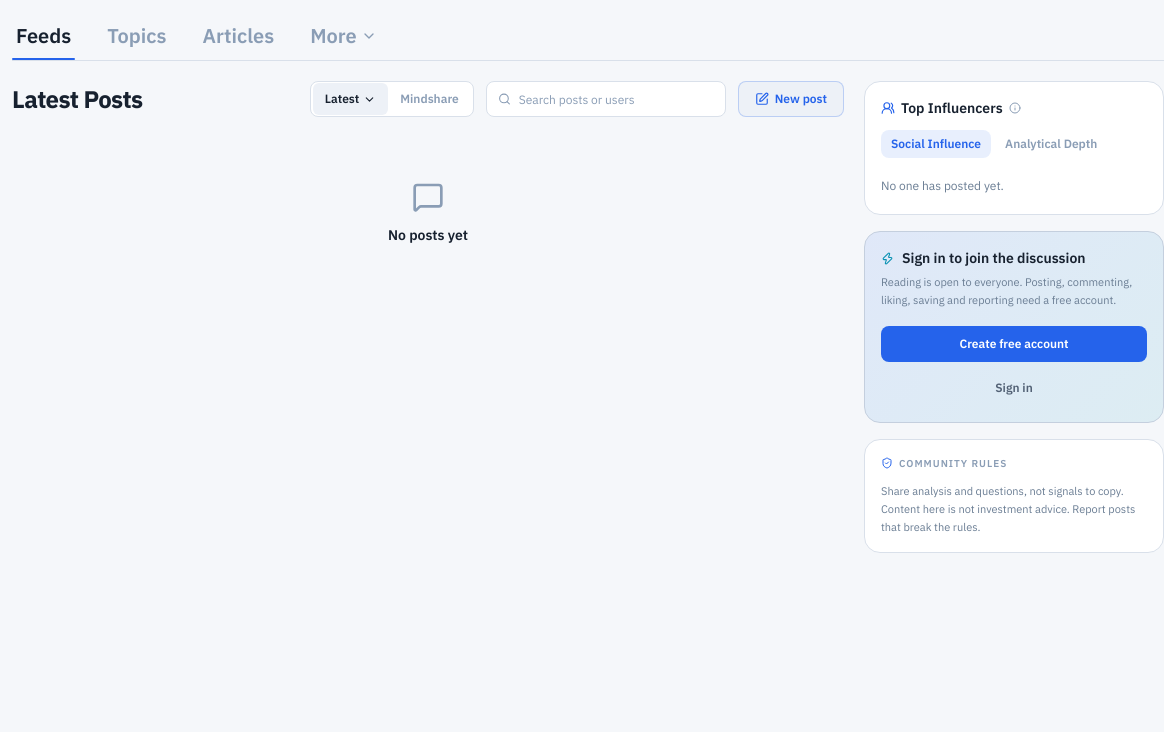
Test: community screens › offers a Guest only the shared tabs and an invitation to sign in
Expected: the heading "Latest Posts" is shown, [12,83,142,115]
Click the button with aria-label "Choose the feed".
click(351, 99)  # box [313,83,388,115]
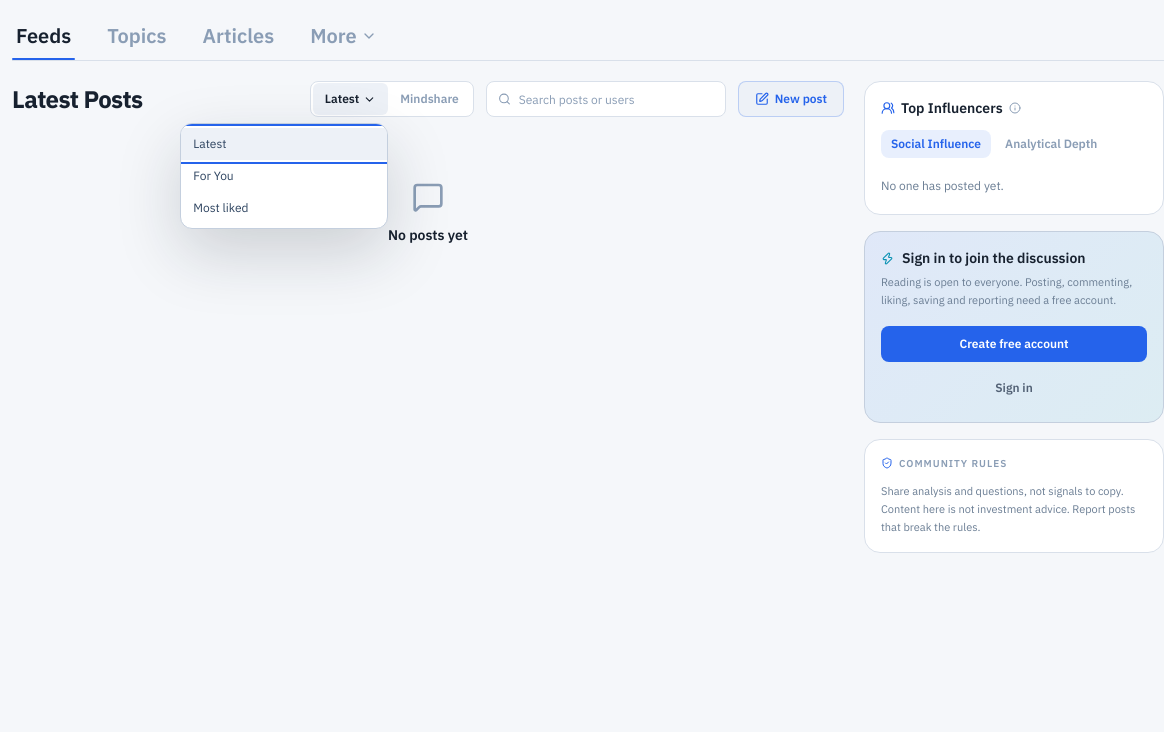
Expected: the heading "Sign in to join the discussion" is shown, [881,249,1086,267]
Result: the menu item "Latest" is shown at [181,128,387,160]
